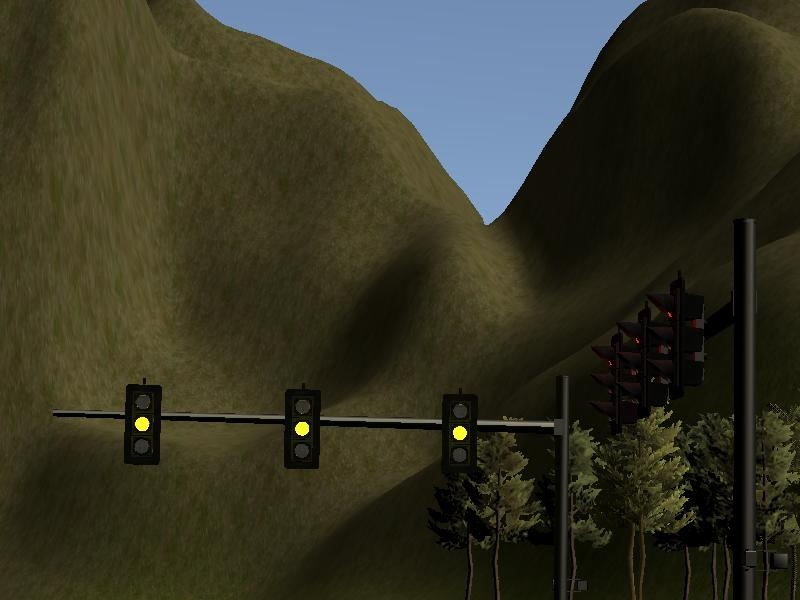YELLOW: (122, 383, 163, 467), (281, 386, 322, 470), (438, 389, 479, 473)
